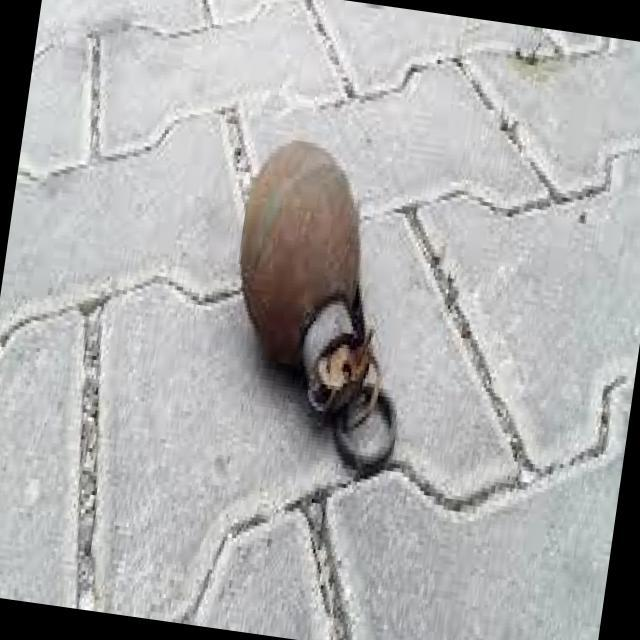grenade: (202, 140, 437, 497)
